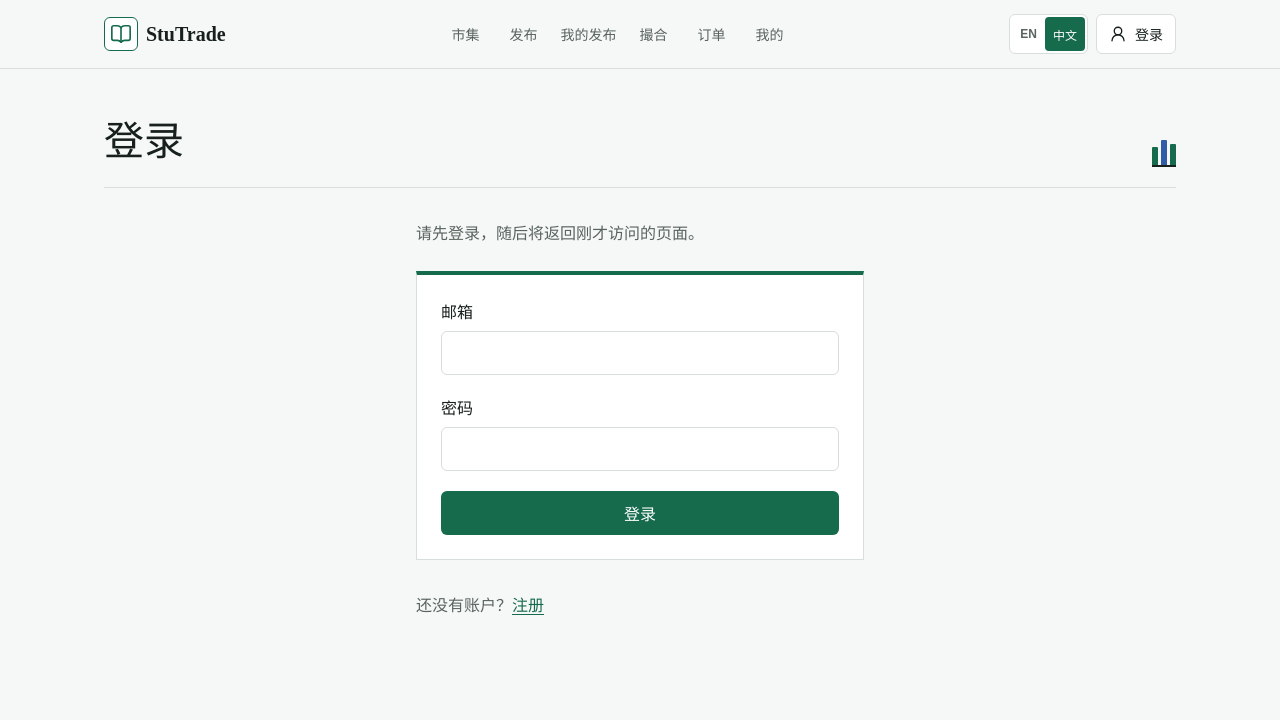
Scenario: authentication › logs in once and returns to the protected target
In the field labelled "邮箱": x=640, y=353 [441,331,839,375], type "lin@example.edu"
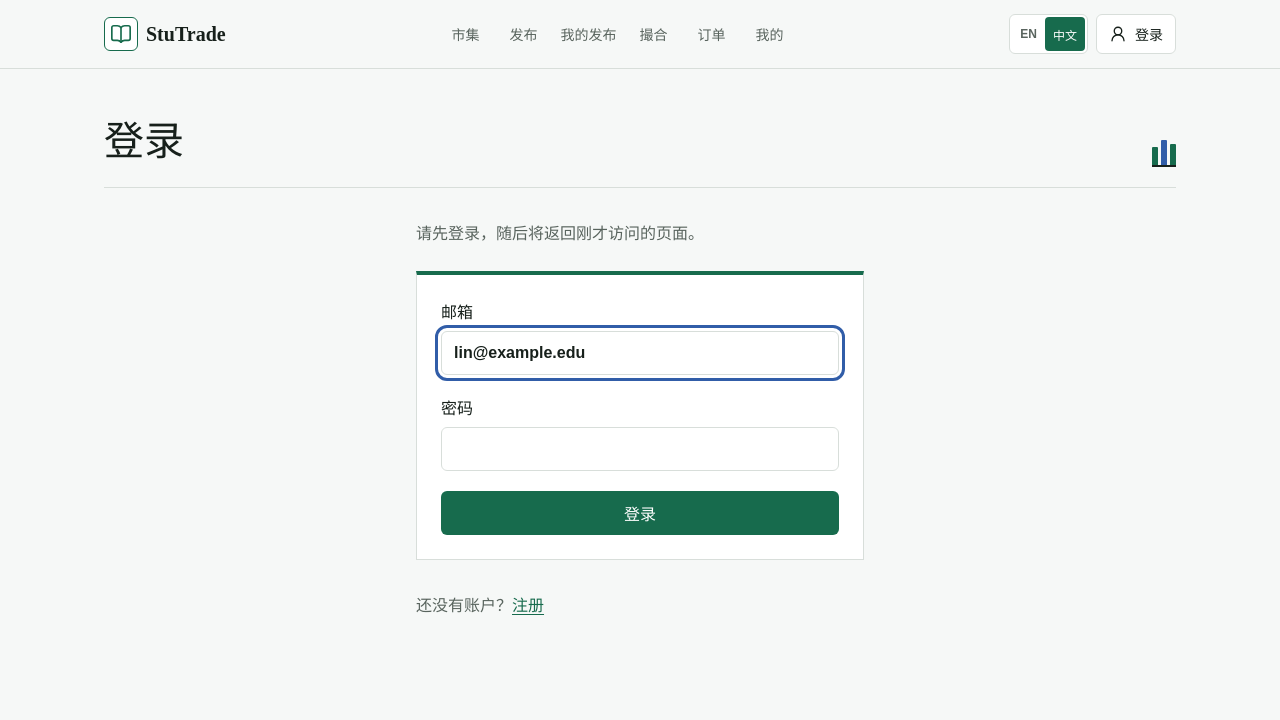
In the password field labelled "密码": x=640, y=449 [441,427,839,471], type "secret123"
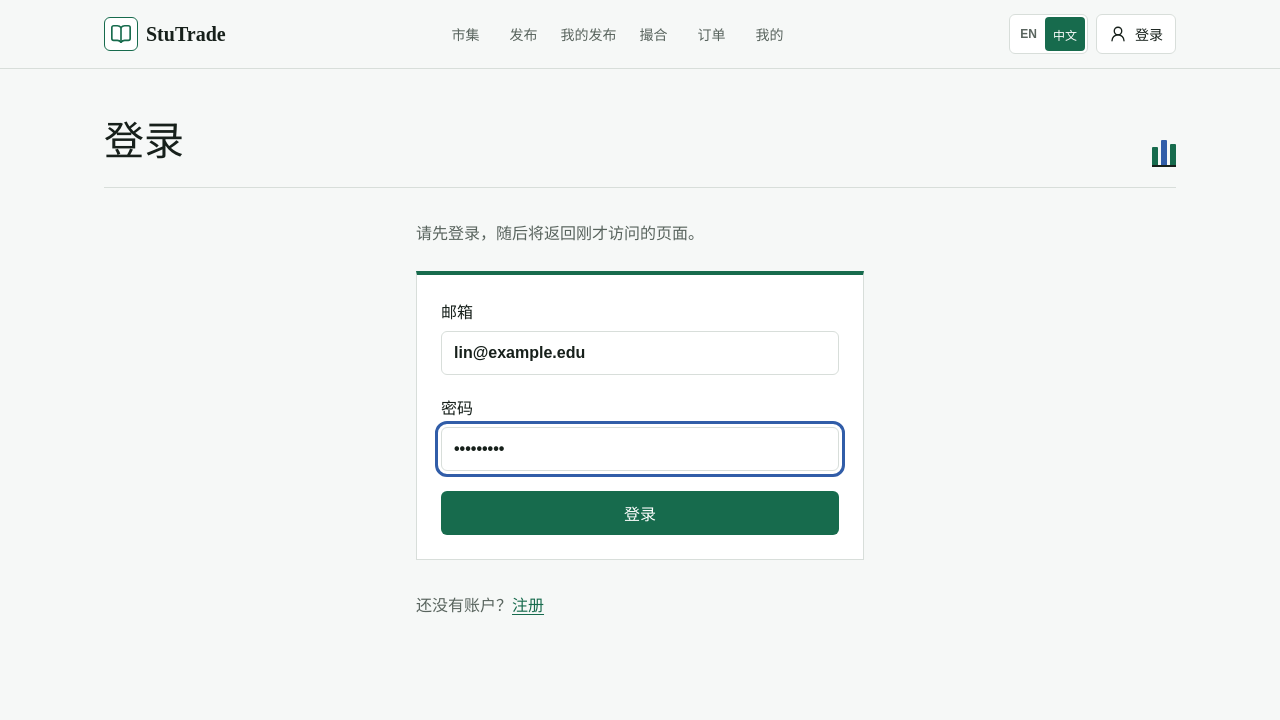
Double-click the button "登录": x=640, y=513 [441,491,839,535]
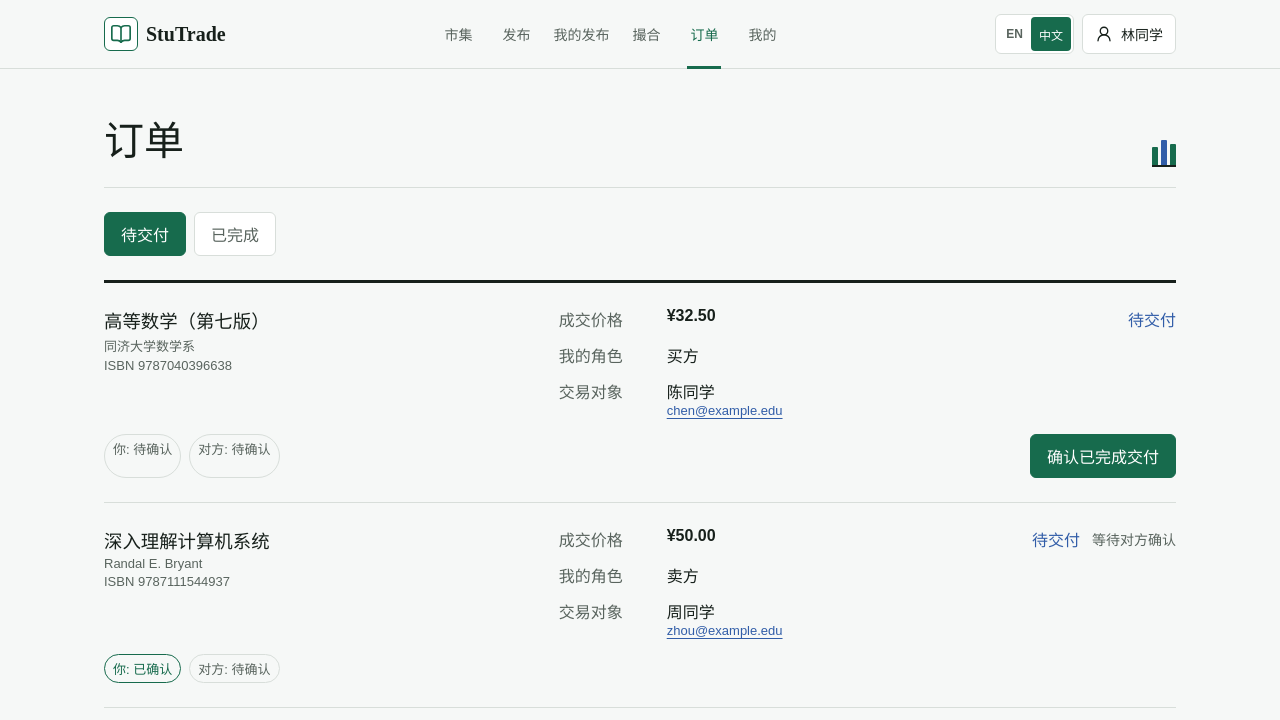
expect the heading "订单" is shown: met, box [104,117,184,167]
